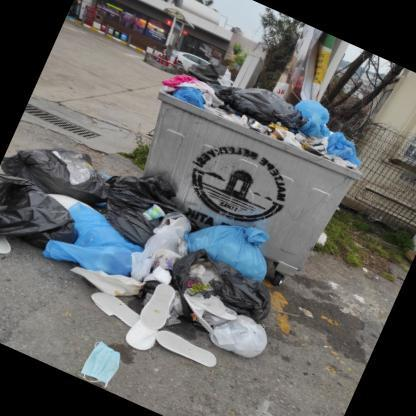Garbage: (34, 150, 274, 333), (0, 123, 164, 307), (160, 39, 378, 177), (150, 252, 284, 364)
